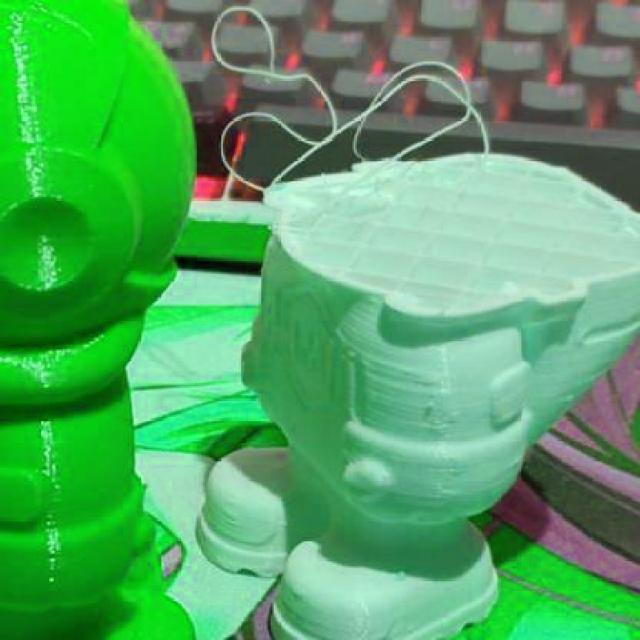spaghetti: (211, 3, 494, 197)
